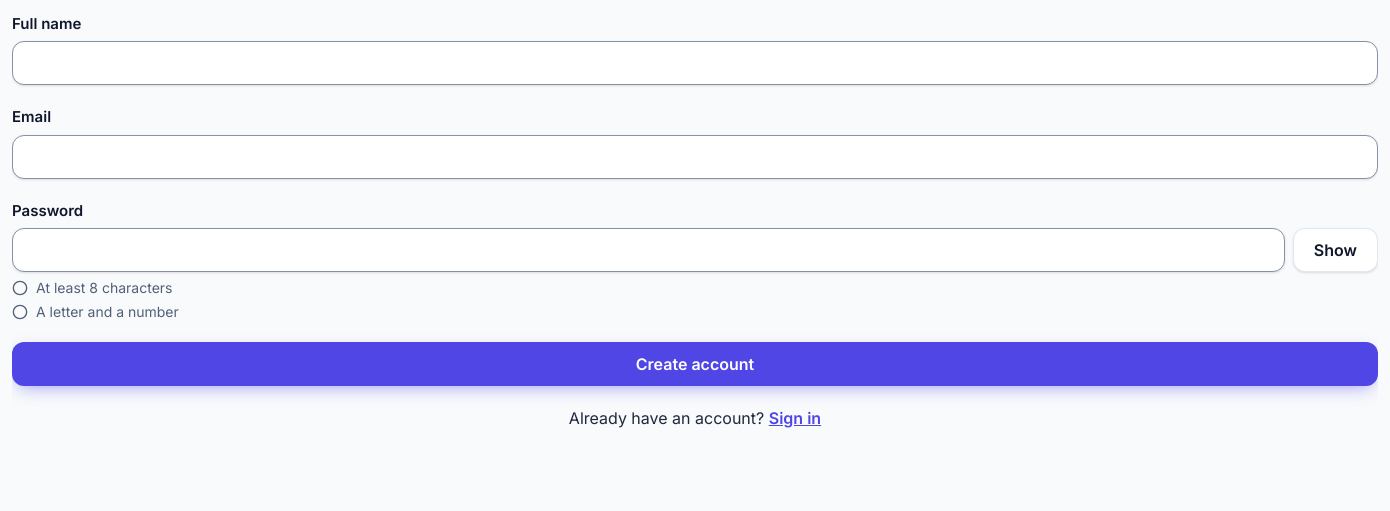
Scenario: SignUpForm › offers sign-in when the email is already registered
Type "Maya" into the field with test id "signup-fullname-input" at (695, 63), box [12,41,1378,85]
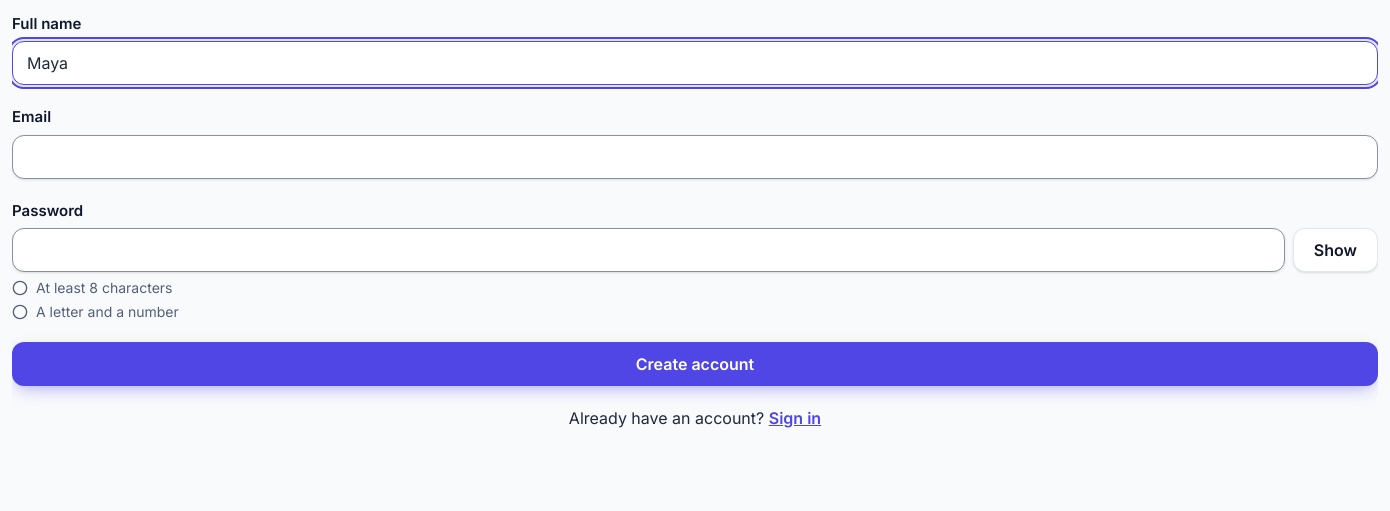
Type "maya@example.test" into the field with test id "signup-email-input" at (695, 156), box [12,134,1378,178]
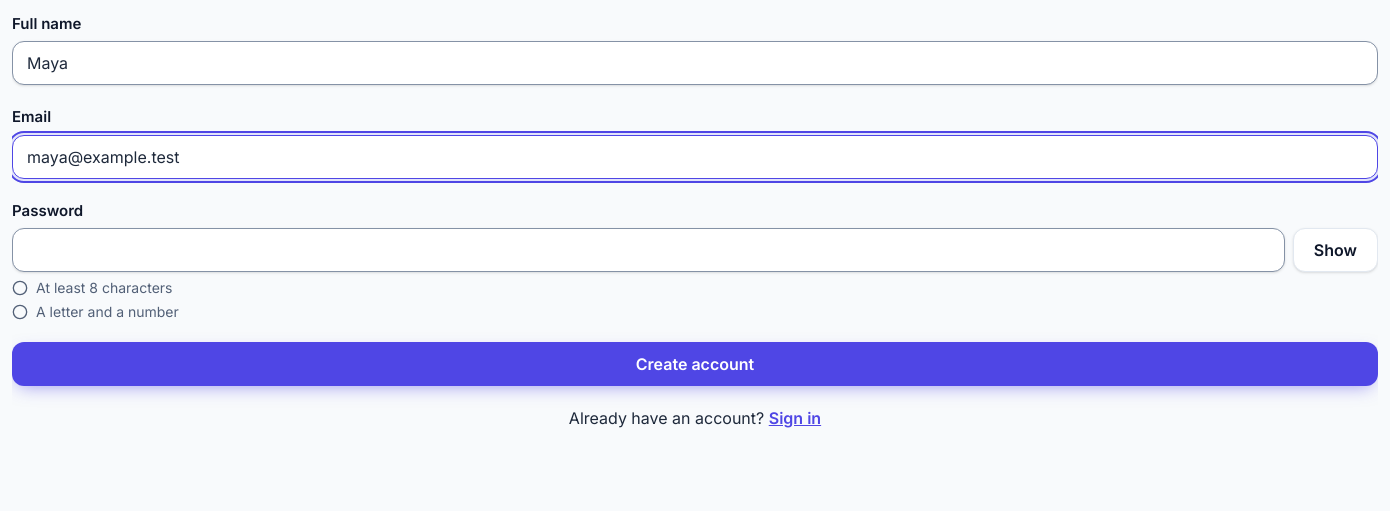
Type "Sunrise2026x" into the password field with test id "signup-password-input" at (648, 250), box [12,228,1285,272]
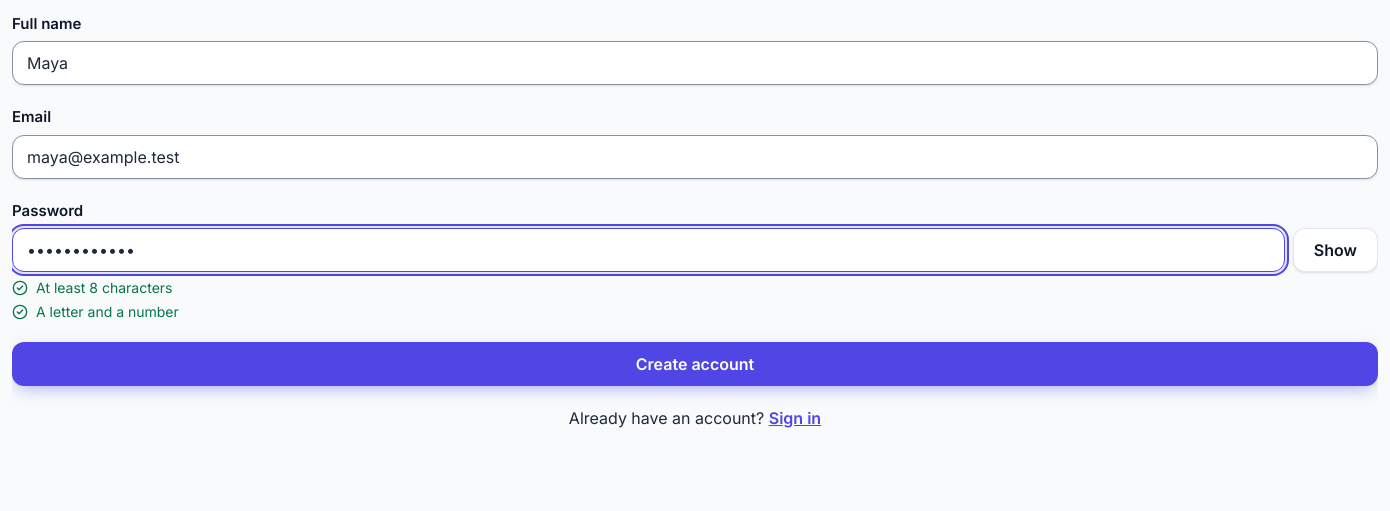
Click the button with test id "signup-submit-button" at (695, 364), box [12,342,1378,386]
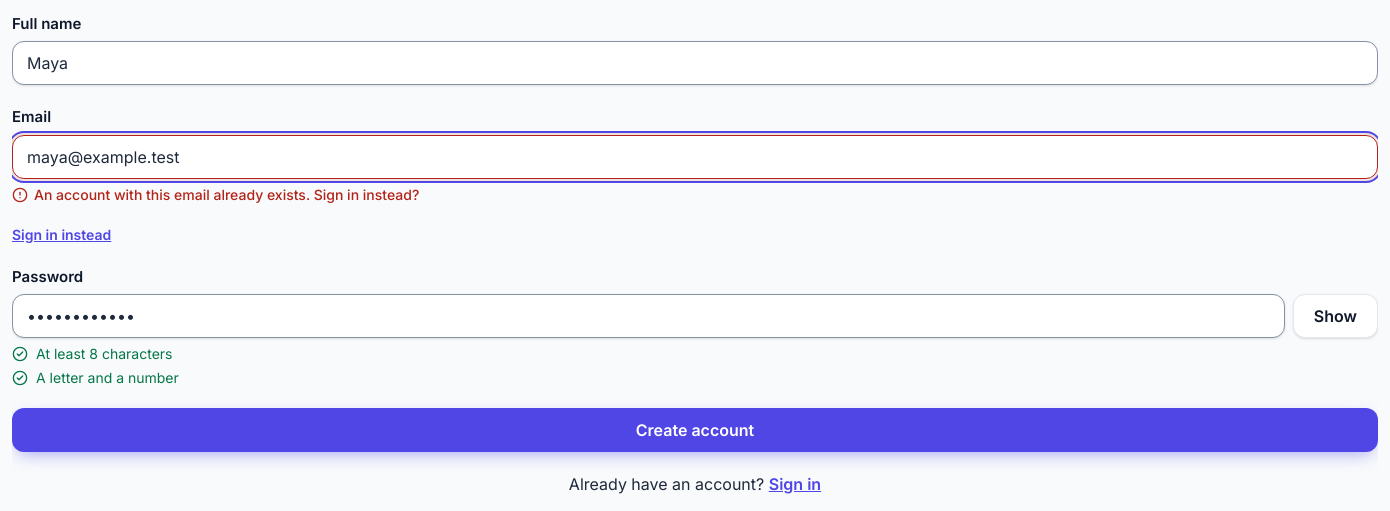
Now the element with test id "email-error" shows "already exists", box [34,186,419,202]
